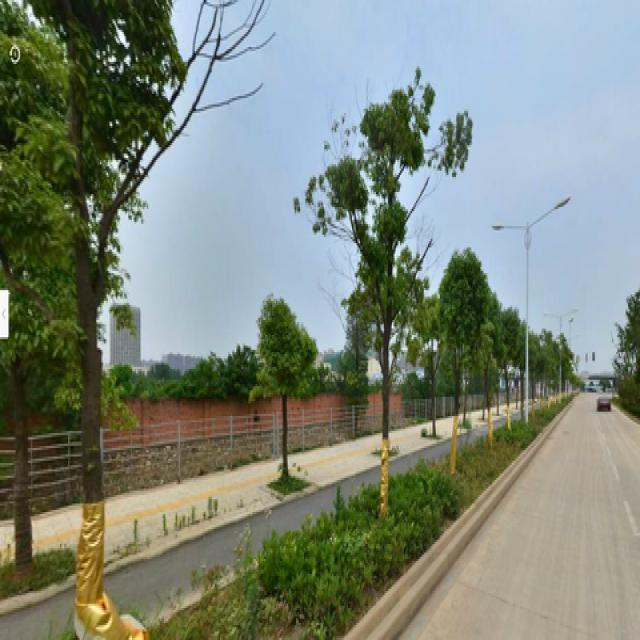cinn: (28, 6, 173, 604), (339, 102, 429, 523), (242, 277, 310, 495), (433, 241, 471, 474)
